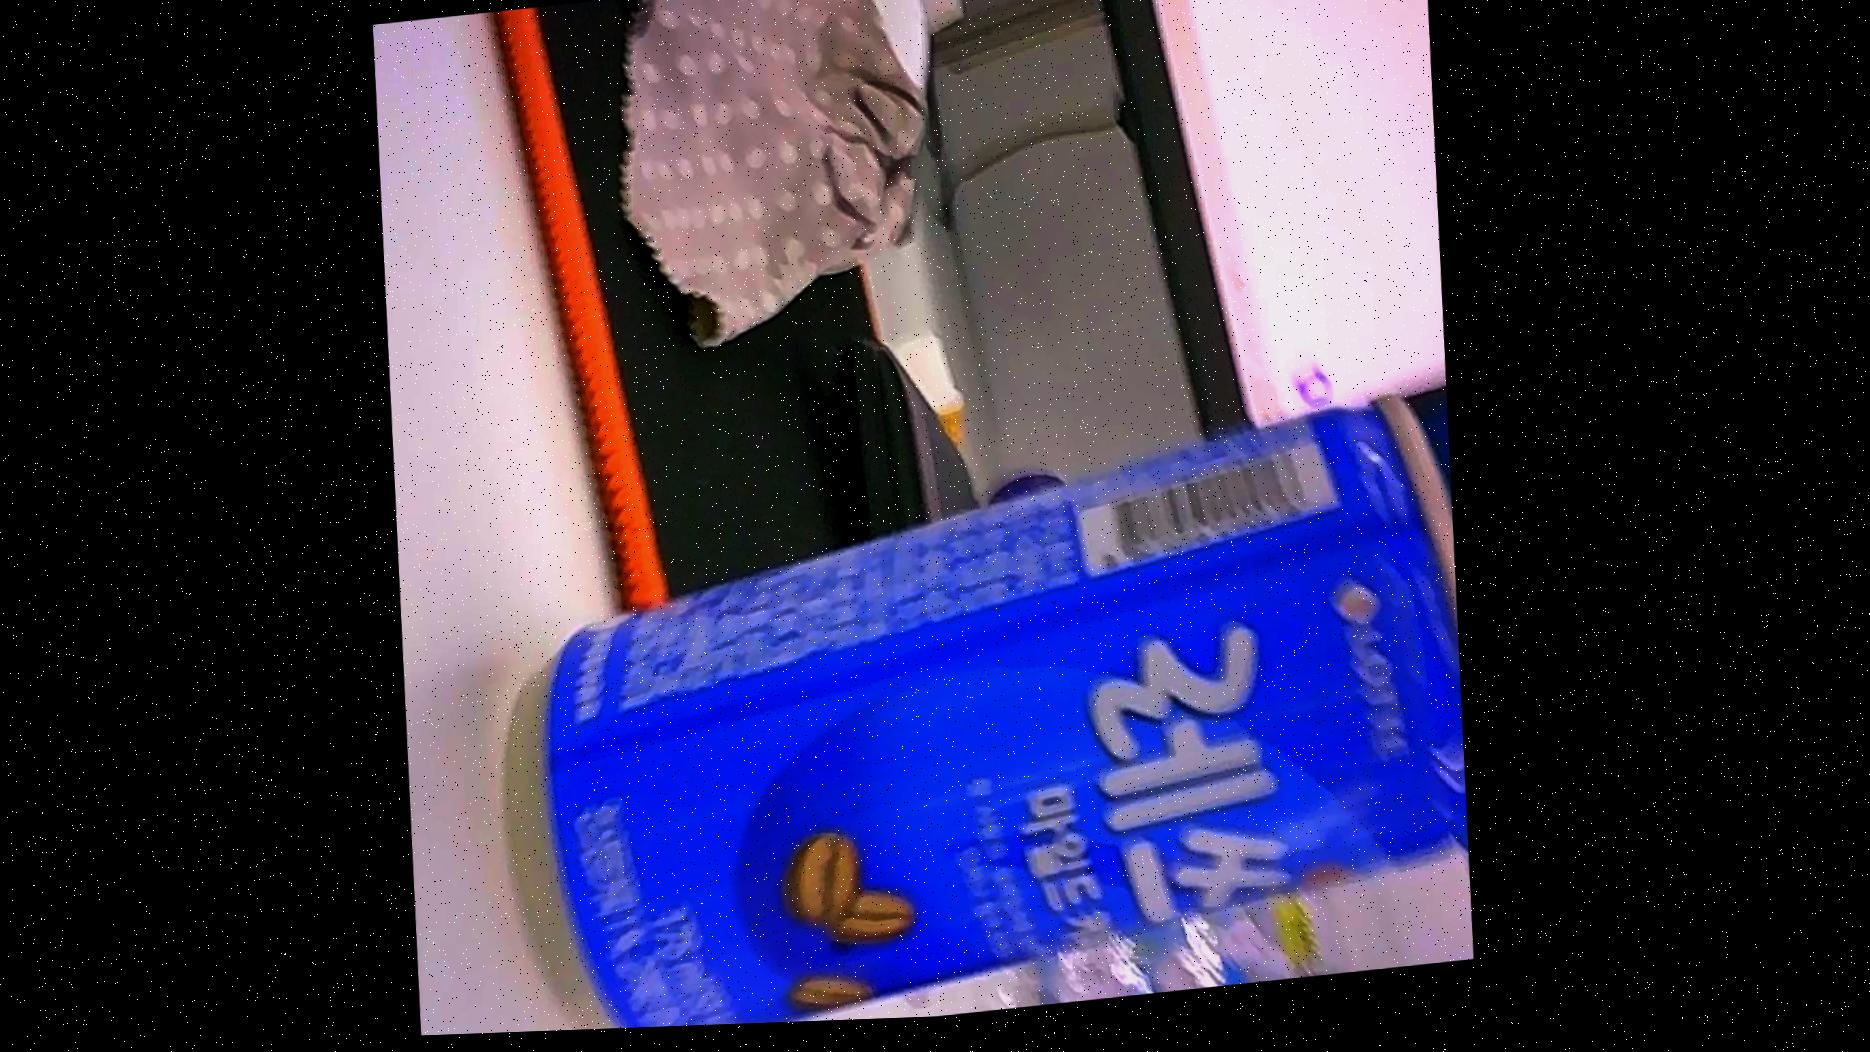letsbe: (520, 399, 1489, 1037)
